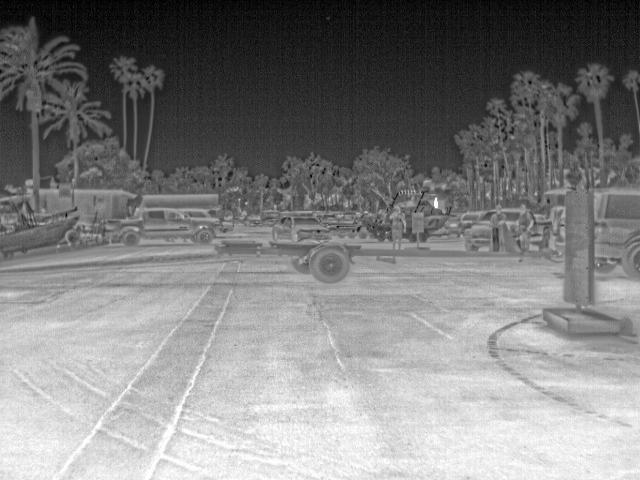car: (104, 204, 221, 246), (588, 186, 638, 280), (272, 212, 332, 244), (464, 212, 497, 251), (530, 220, 553, 250), (182, 208, 218, 223), (502, 208, 520, 225), (221, 220, 235, 236)
person: (388, 206, 407, 248), (513, 206, 533, 234), (488, 208, 506, 234)
